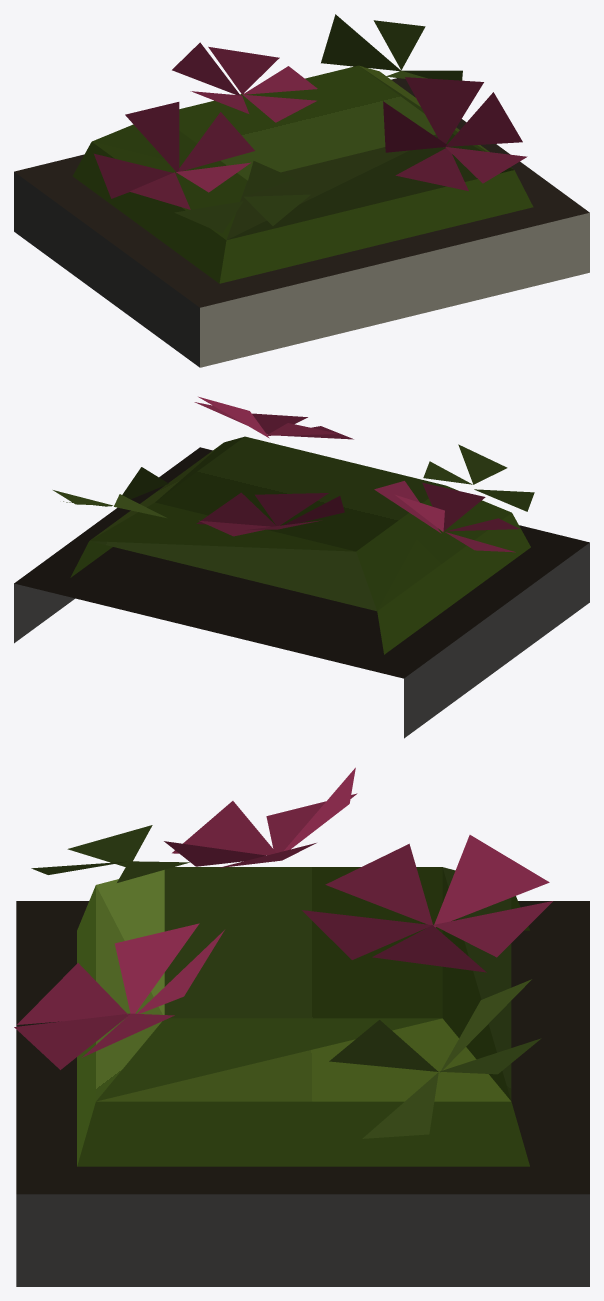
File: city-decor04.fbx
3 views of the same model, one above another, from view 1: azimuth 30°, elevation 25°; view 2: azimuth 150°, elevation 25°; view 3: azimuth 270°, elevation 25° (orthographic). The views are drawn at different scales.
Visible parts, largest first — view 1: city-decor04; view 2: city-decor04; view 3: city-decor04.
Boxes of the visible parts, x1=… form: city-decor04: x1=14, y1=14, x2=589, y2=367; city-decor04: x1=14, y1=396, x2=589, y2=738; city-decor04: x1=14, y1=767, x2=589, y2=1286.
Size of the model in its own units: 0.8158 by 0.3366 by 0.6526.
1 material, 1 textured.
